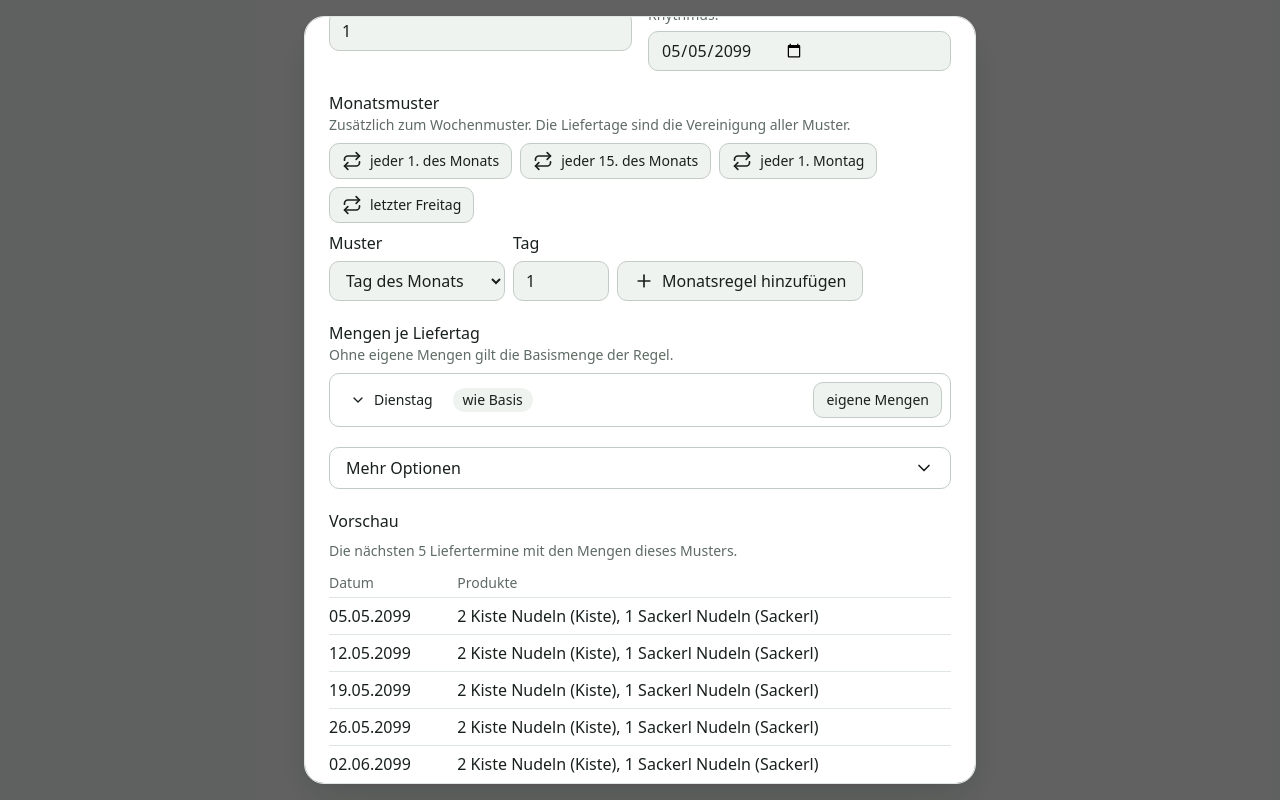
OrderRecurringDialog (NUD-166, NUD-171) › keeps a day without own rows on the base list
Later steps or results of the test are not shown.
(page scrolled)
Click the button with test id "order-recurring-day-own-2" at [878, 400], box top-left (813, 382), bottom-right (942, 418)
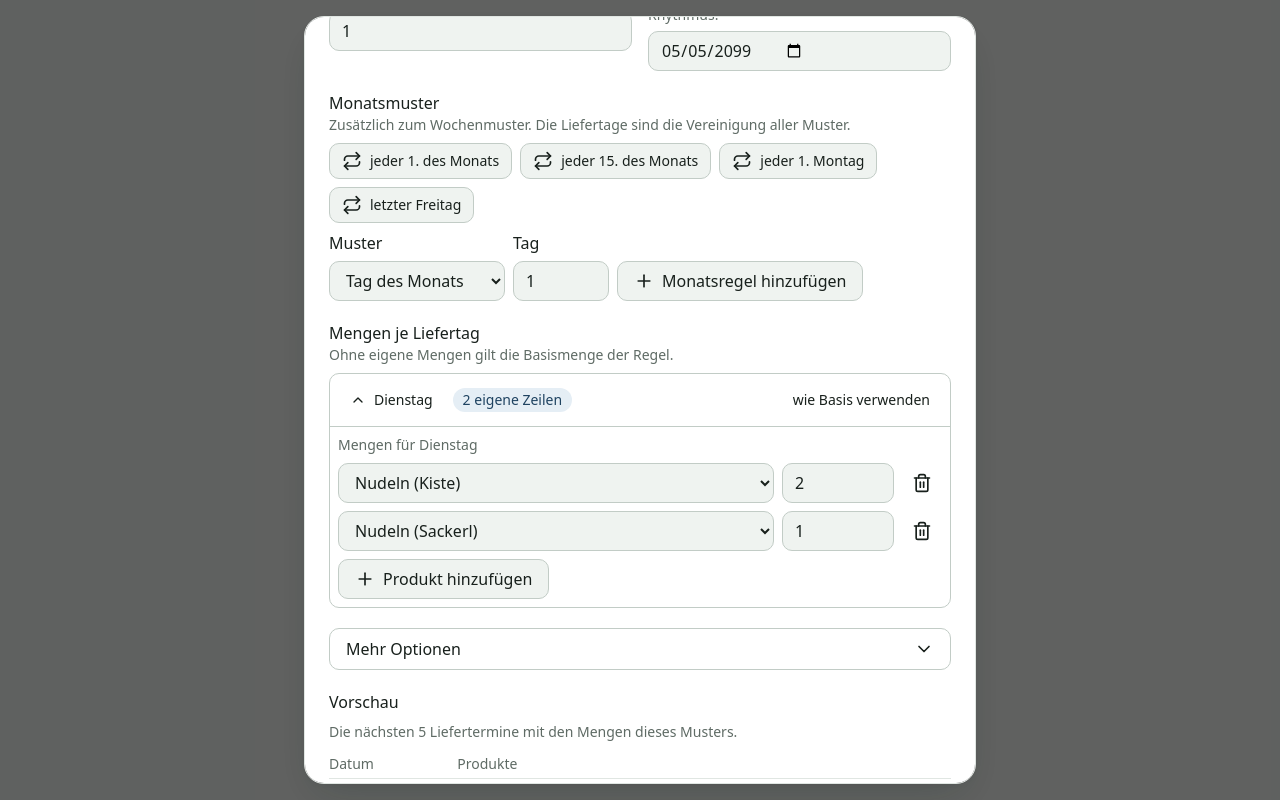
Click the button with test id "order-recurring-day-reset-2" at [861, 400], box top-left (781, 382), bottom-right (942, 418)
(page scrolled)
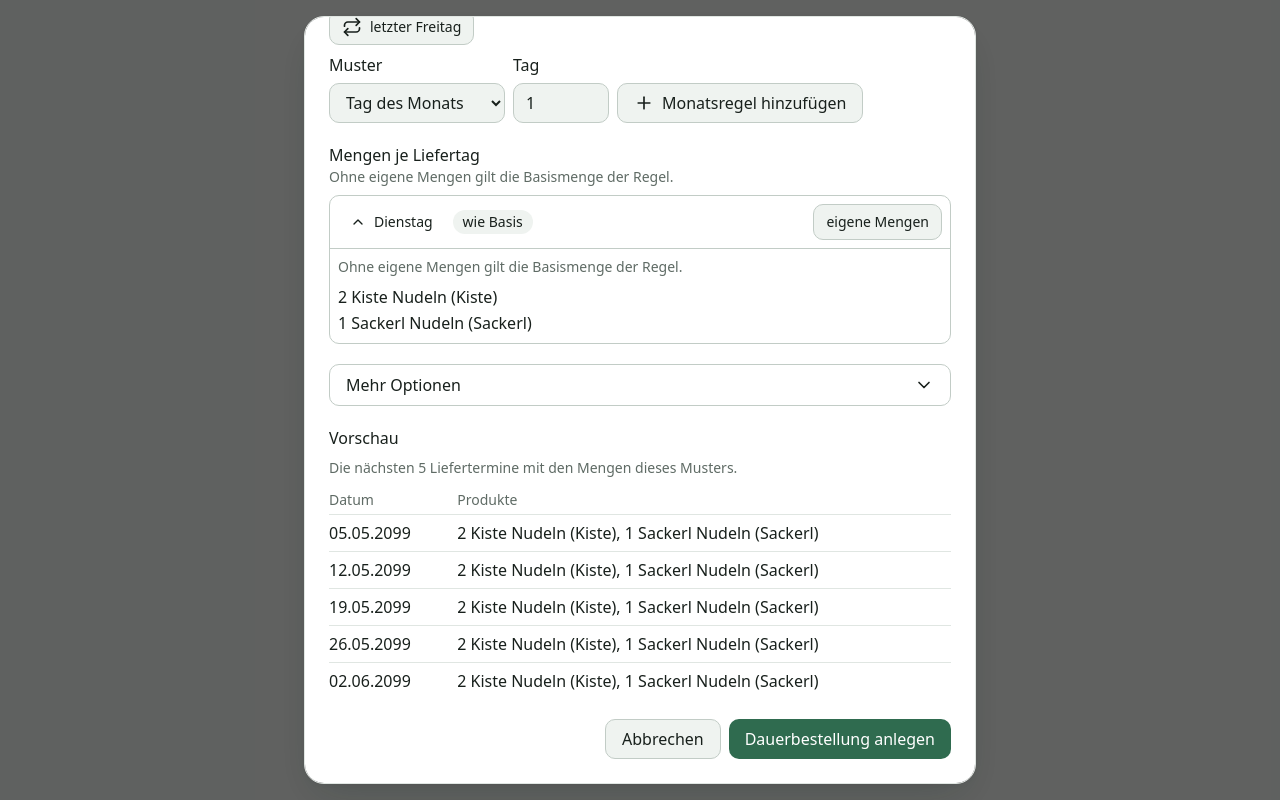
Expected: the text with test id "order-recurring-day-state-2" reads "wie Basis", top-left (463, 212), bottom-right (523, 231)
